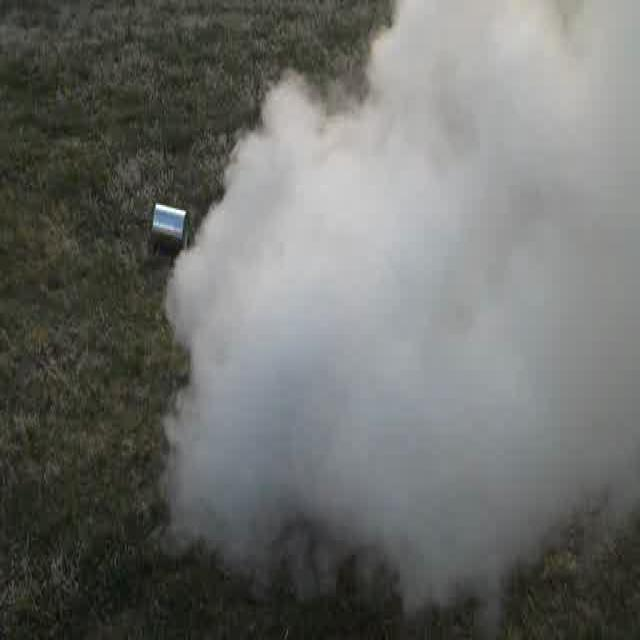Smoke: (186, 11, 640, 584)
